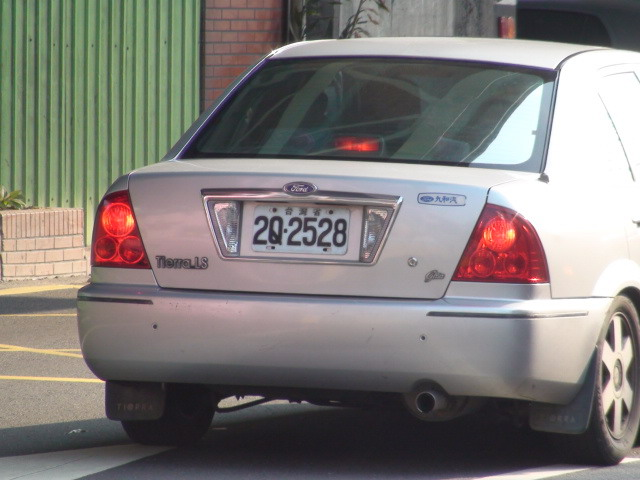plate: (248, 203, 351, 258)
